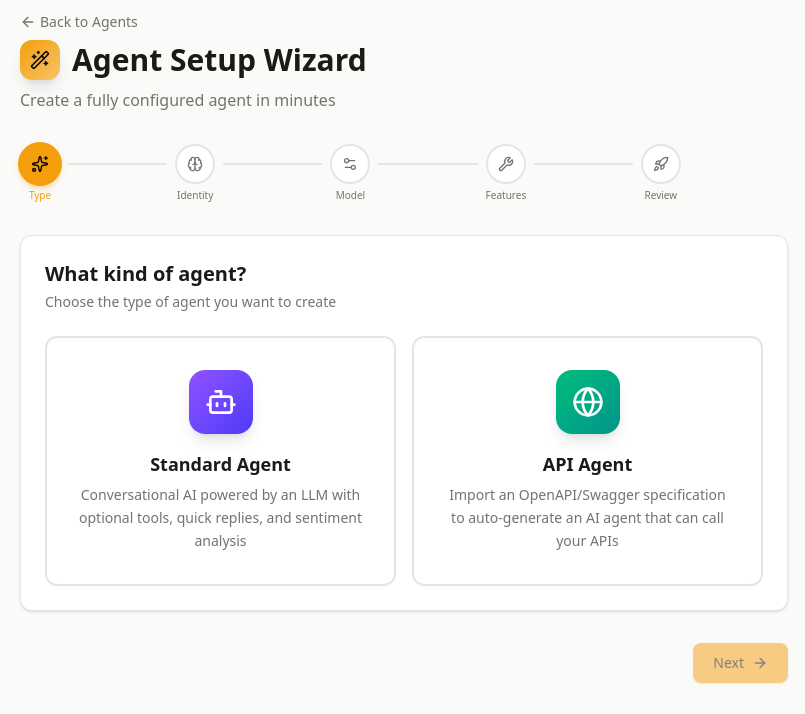
it: AgentWizardPage › API Agent shows OpenAPI spec input on step 3
The image size is (805, 714).
Click the button with test id "type-api" at (588, 461), box [412,336,763,586]
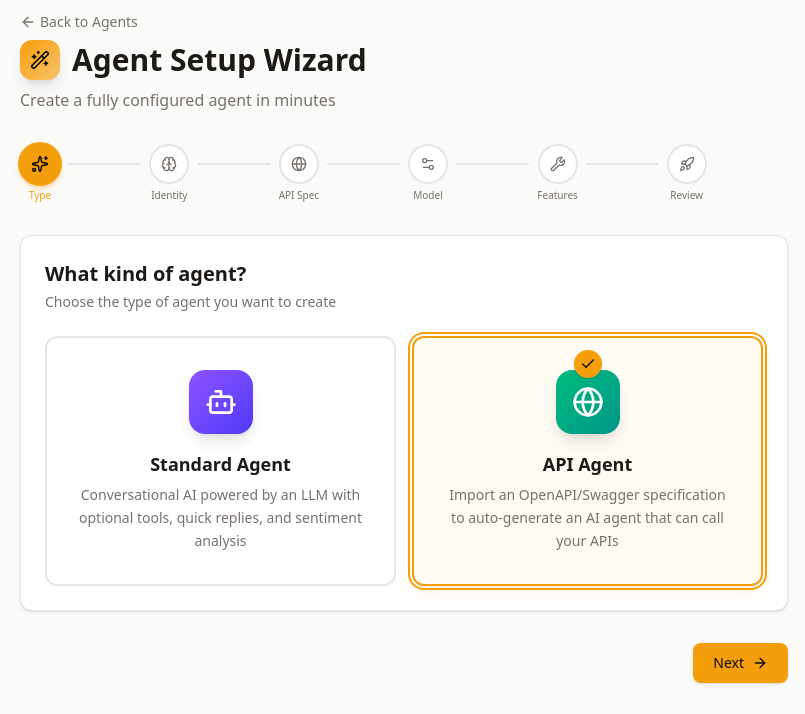
Click the button with test id "wizard-next" at (741, 663), box [693,643,788,683]
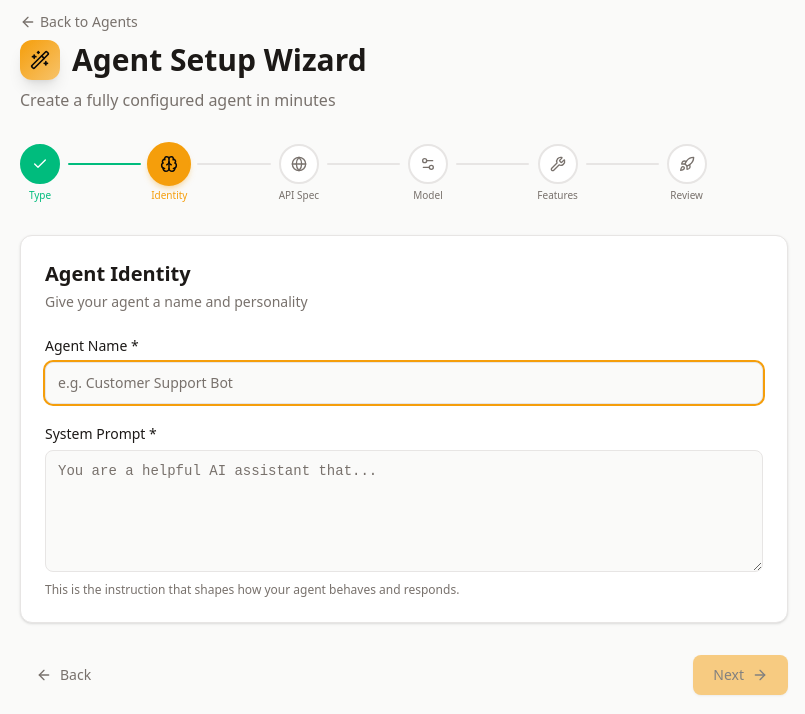
Type "API Bot" into the field with test id "wizard-agent-name" at (404, 383), box [45,362,763,404]
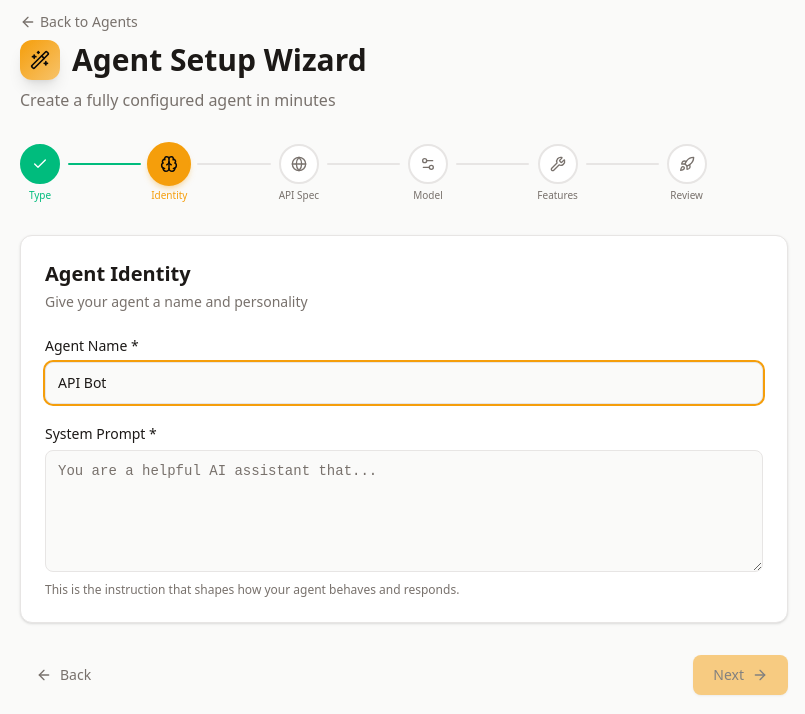
Type "You manage APIs" into the text box with test id "wizard-system-prompt" at (404, 511), box [45,450,763,572]
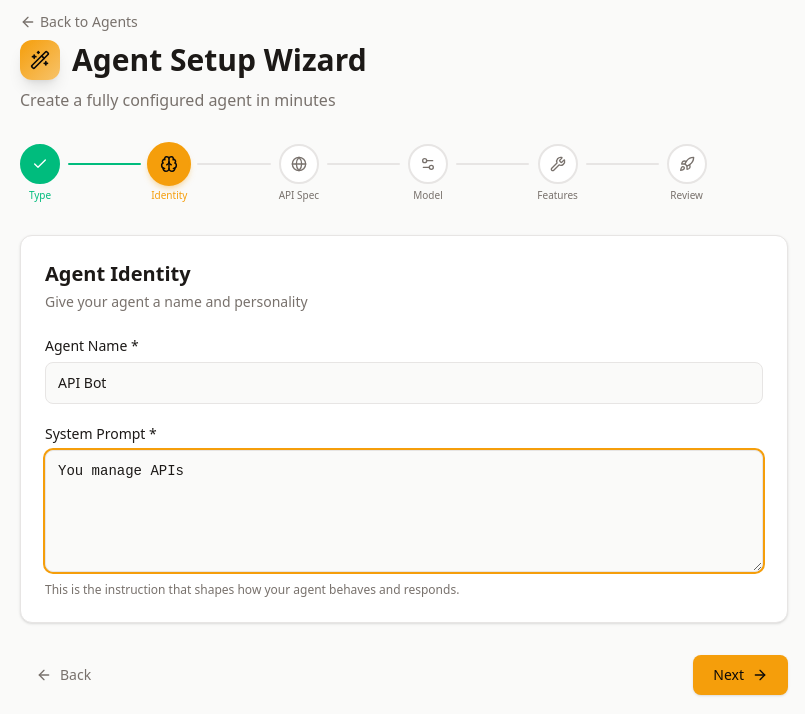
Click the button with test id "wizard-next" at (741, 675), box [693,655,788,695]
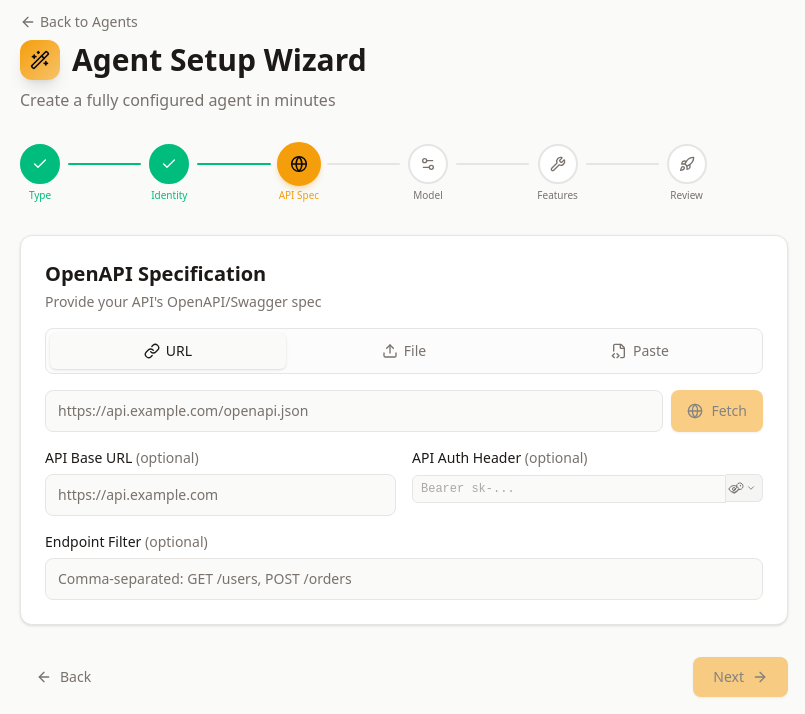
Result: the element with test id "spec-mode-tabs" is shown at [45,328,763,374]
Result: the field with test id "wizard-spec-url" is shown at [45,390,663,432]
